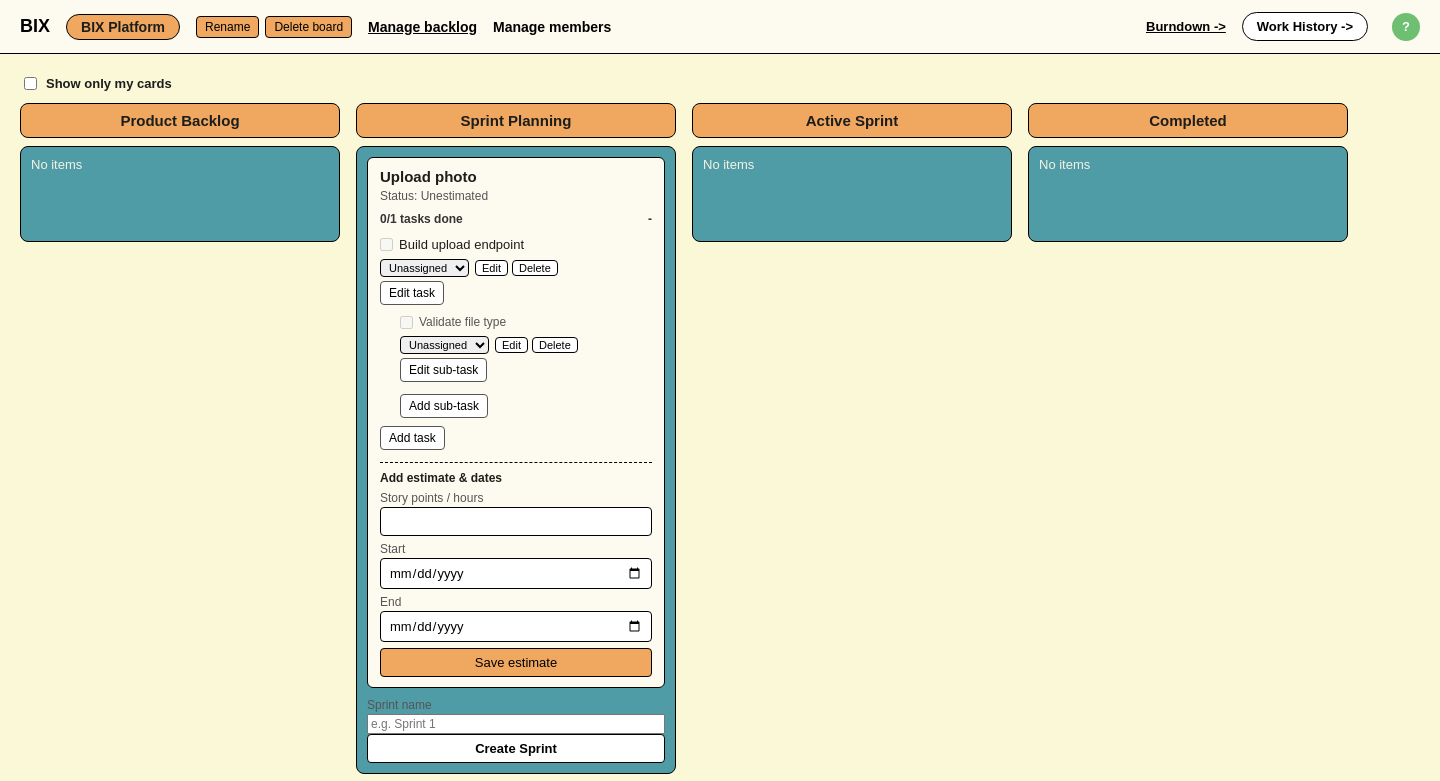
Test: Board page - admin task/sub-task controls (US-04a) › shows the edit form's own error and stays open when the save is rejected
The image size is (1440, 781).
Check: the text "Build upload endpoint" is shown, box [399,237,524,252]
Click the button "Edit" below "Build upload endpoint".
click(492, 268)  # box [475,260,508,276]
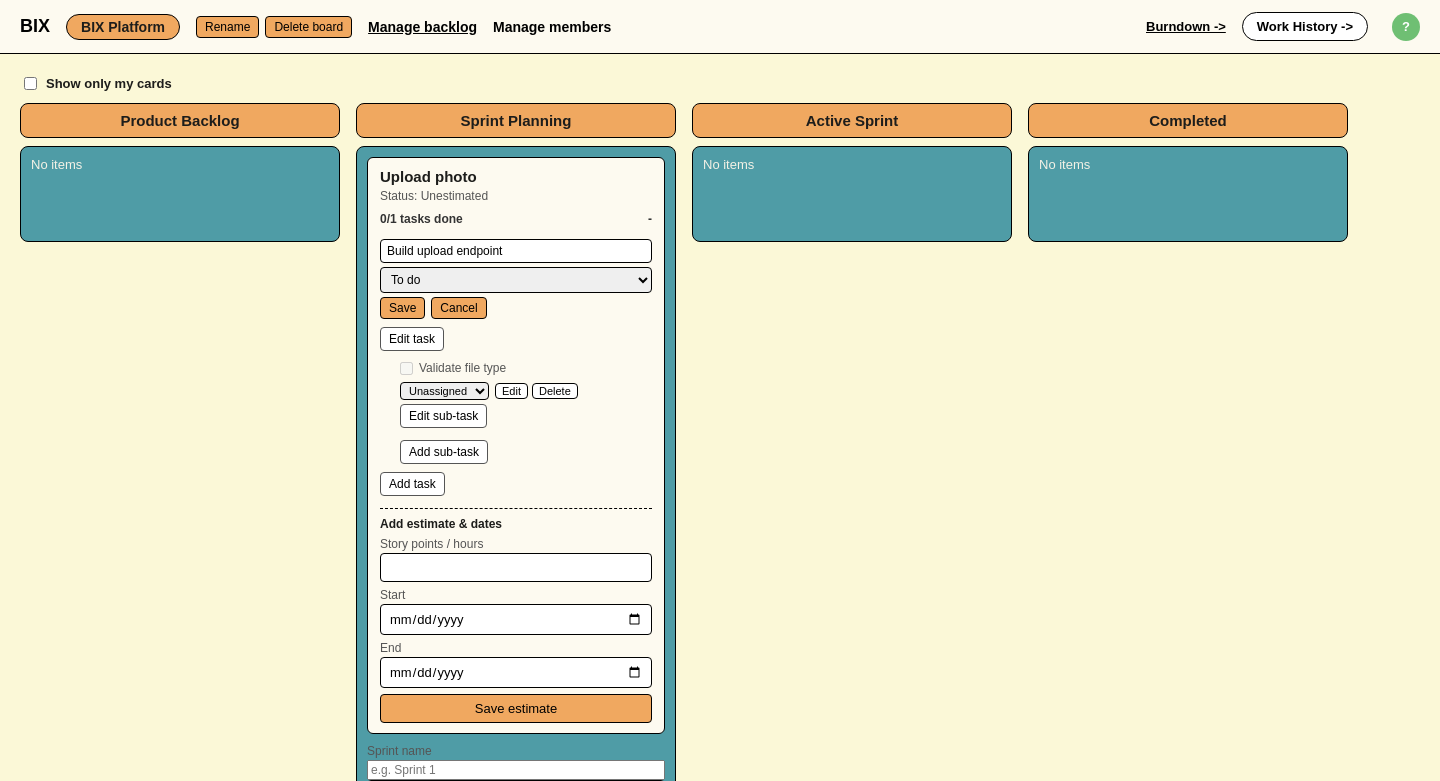
Click the button "Save".
click(403, 308)  # box [380,297,425,319]
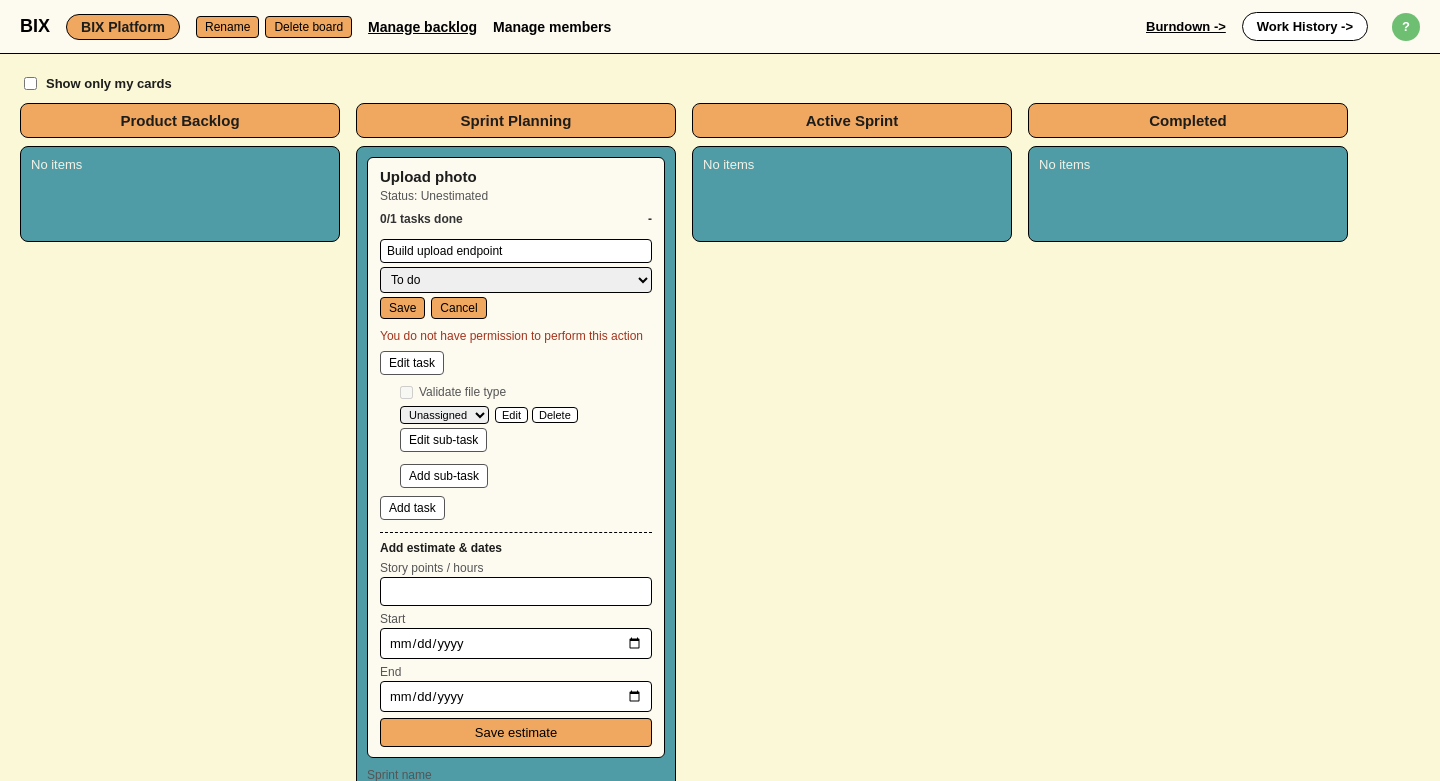
Check: the field named "Title" is shown, box [380,239,652,263]
Check: the message reads "You do not have permission to perform this action", box [380,329,643,343]
